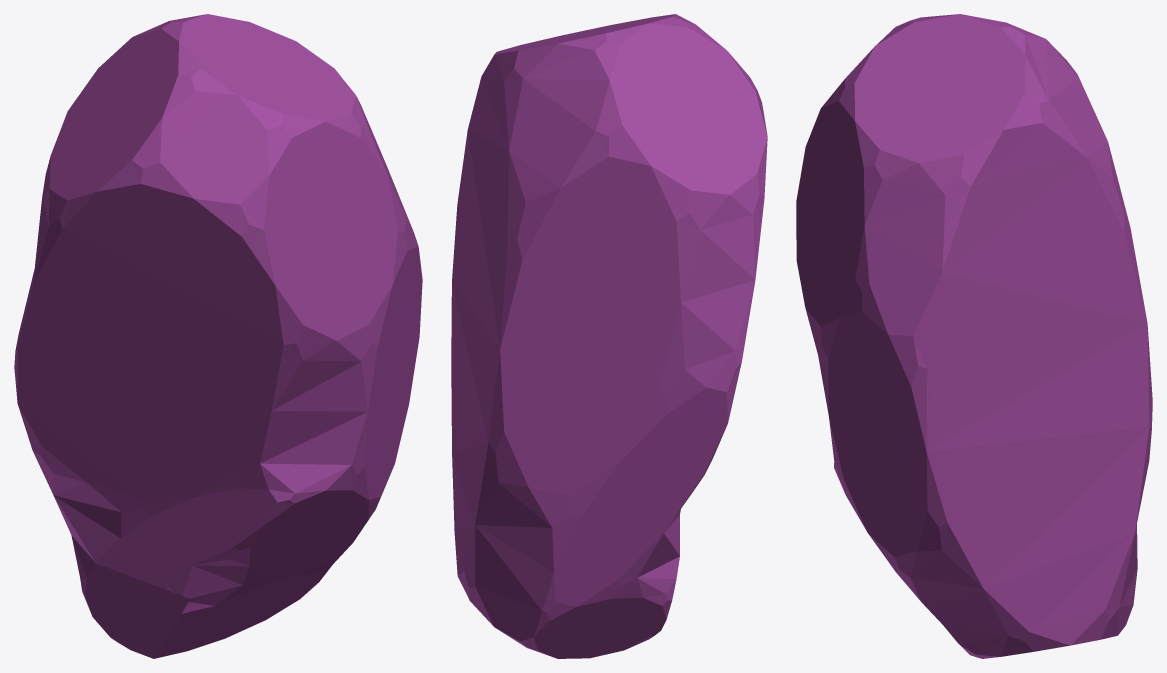
The model's file is Crystal Shard.fbx.
3 renders of one model, left to right at view 1: azimuth 30°, elevation 25°; view 2: azimuth 150°, elevation 25°; view 3: azimuth 270°, elevation 25°, orthographic. The views are drawn at different scales.
Parts seen in each view (by area): view 1: HSS_Object; view 2: HSS_Object; view 3: HSS_Object.
Boxes of the visible parts, x1,y1,x2,y2 form: HSS_Object: (14, 14, 422, 658); HSS_Object: (451, 14, 767, 658); HSS_Object: (796, 14, 1152, 658).
Bounding box in the file's own units: 0.541 × 0.923 × 0.4824.
